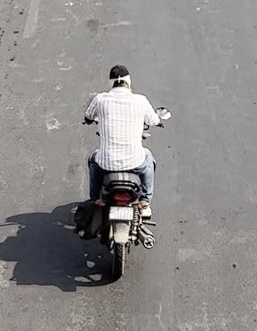BikeWithRider: (69, 57, 180, 283)
NoHelmet: (107, 64, 133, 92)
